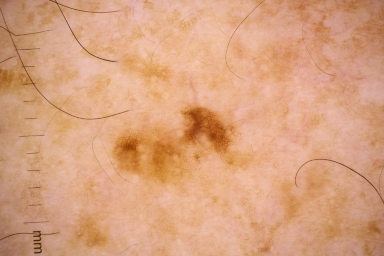melanoma: (111, 137, 182, 181), (183, 105, 236, 157)
